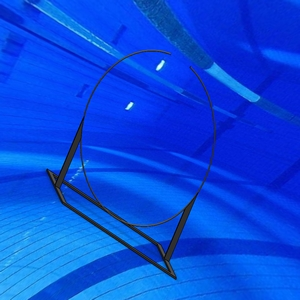circle: (46, 49, 217, 281)
